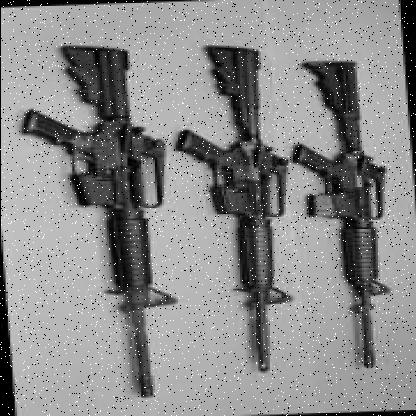rifle: (23, 43, 184, 416), (180, 38, 304, 380), (285, 53, 400, 370)
